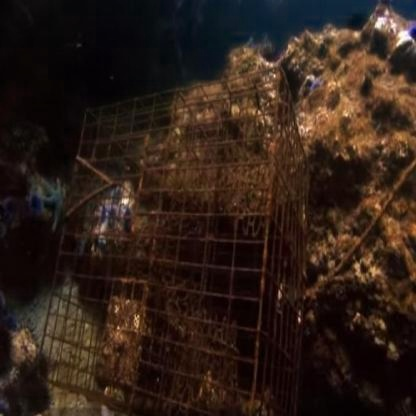misc: (61, 75, 297, 412)
